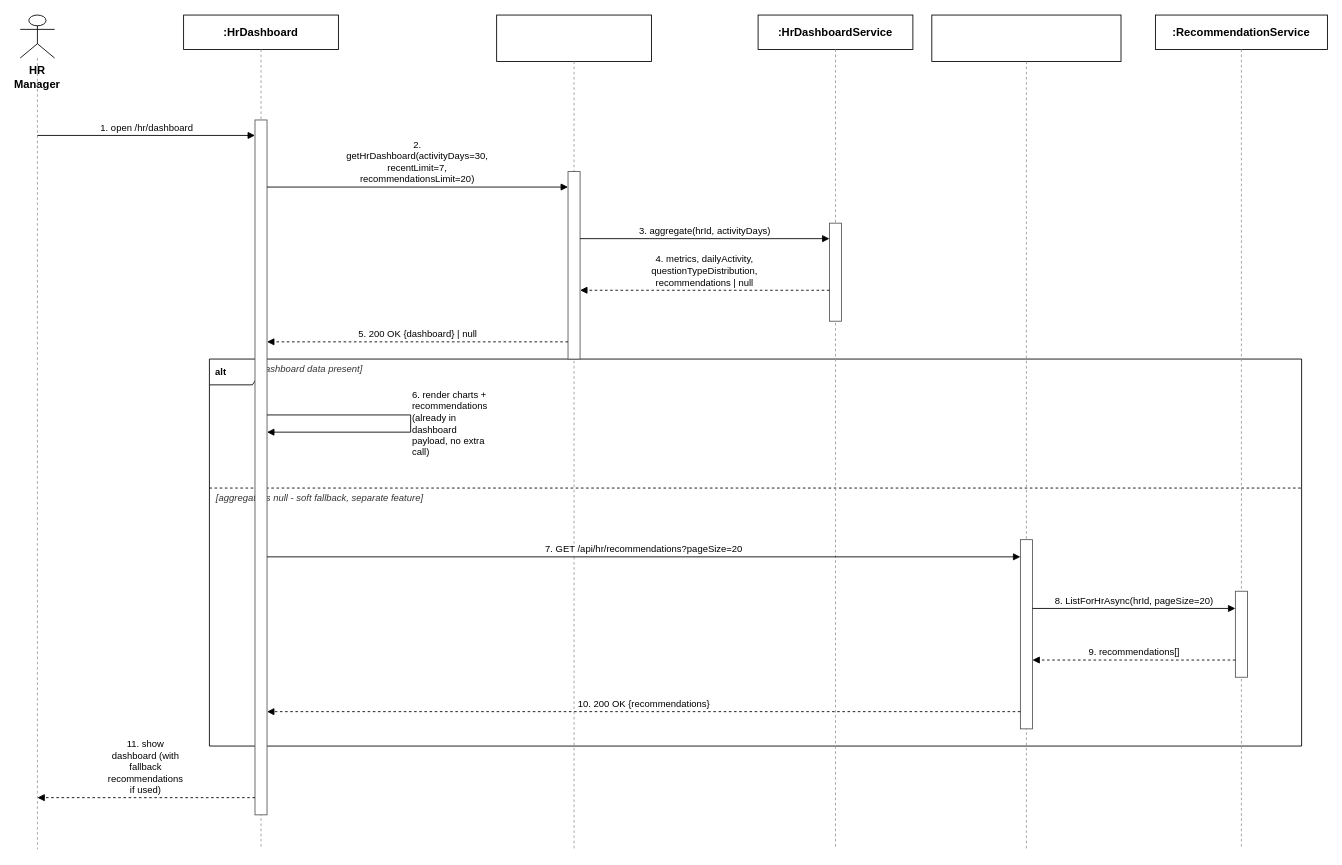
The diagram is 1342 pixels wide and 865 high, and some of its shapes have lost their labels. The shapes that lost their labels are listed below. From the top down, each one's centre as x and y in pixels, then its label:
the point at 573,37: :HrDashboardController
the point at 1026,37: :HrRecommendationsController
